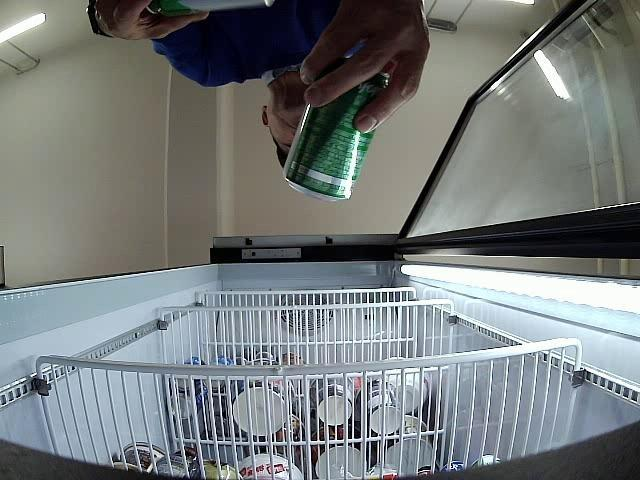12_chilsungCider: (283, 76, 387, 202), (147, 0, 276, 18)
